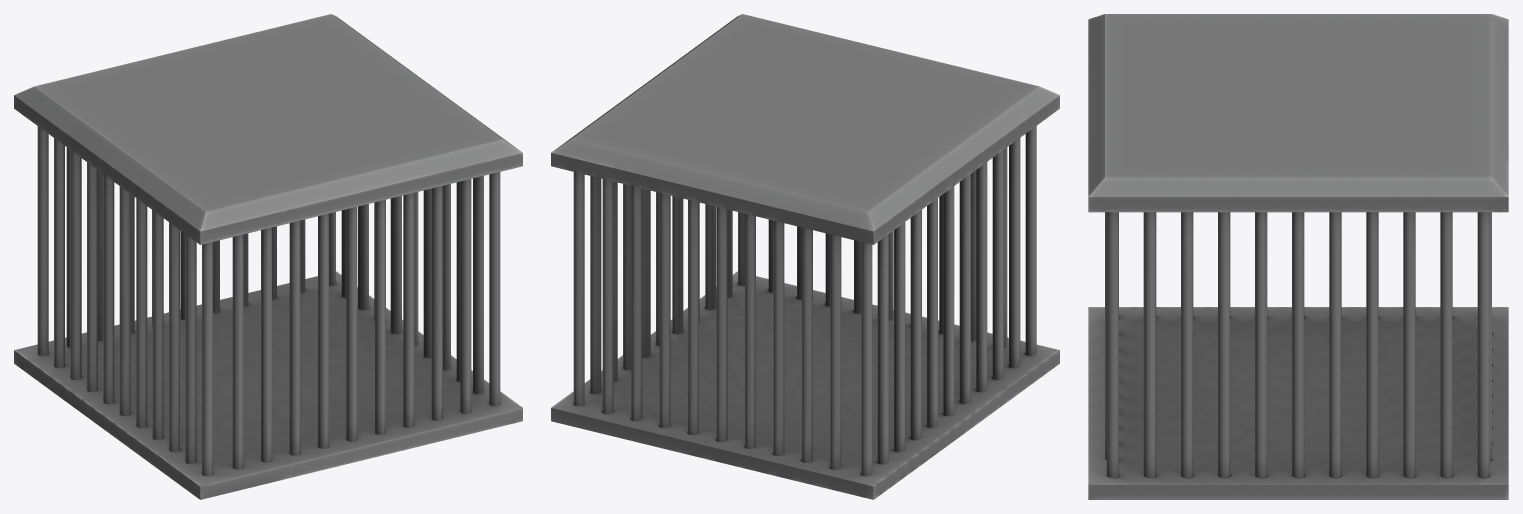
Rendered from Cage.fbx.
3 views of the same model, side by side, from view 1: azimuth 30°, elevation 25°; view 2: azimuth 150°, elevation 25°; view 3: azimuth 270°, elevation 25° (orthographic). The views are drawn at different scales.
Parts seen in each view (by area): view 1: Base_top, CageSide, Base, CageF_B; view 2: Base_top, CageSide, Base, CageF_B; view 3: Base_top, Base, CageSide, CageF_B.
Part boxes in pixels (bbox=[...]): Base_top: bbox=[14, 14, 522, 244]; CageSide: bbox=[37, 126, 500, 476]; Base: bbox=[14, 271, 522, 499]; CageF_B: bbox=[66, 147, 471, 469]; Base_top: bbox=[551, 14, 1059, 244]; CageSide: bbox=[573, 126, 1036, 476]; Base: bbox=[551, 271, 1059, 499]; CageF_B: bbox=[602, 147, 1007, 469]; Base_top: bbox=[1088, 14, 1508, 212]; Base: bbox=[1088, 307, 1508, 499]; CageSide: bbox=[1106, 212, 1489, 477]; CageF_B: bbox=[1105, 212, 1491, 460].
Size of the model in its own units: 340 by 281 by 340.
